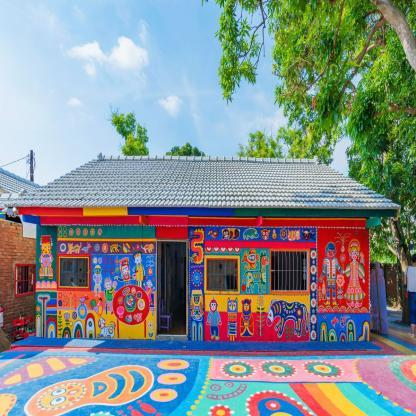Building Outline: (5, 152, 401, 341)
Door: (158, 239, 188, 336)
Facade: (37, 218, 369, 338)
Ground Floor: (37, 218, 369, 338)
Roof: (5, 152, 401, 210)
Window: (272, 251, 308, 291), (60, 257, 89, 287), (208, 261, 237, 291)
